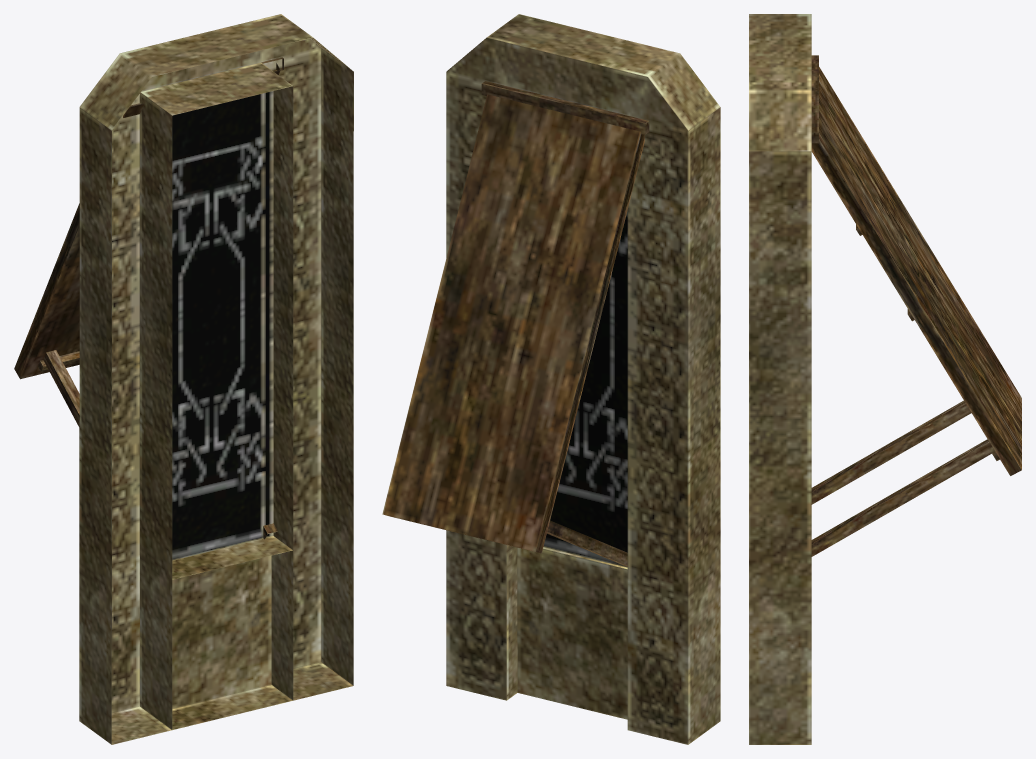
Rendered from hrt_window2.glb.
3 views of the same model, side by side, from view 1: azimuth 30°, elevation 25°; view 2: azimuth 150°, elevation 25°; view 3: azimuth 270°, elevation 25° (orthographic). The views are drawn at different scales.
Parts seen in each view (by area): view 1: hrt_window2-col; view 2: hrt_window2-col; view 3: hrt_window2-col.
Boxes of the visible parts, x1=… form: hrt_window2-col: x1=14, y1=14, x2=353, y2=744; hrt_window2-col: x1=382, y1=14, x2=720, y2=744; hrt_window2-col: x1=749, y1=14, x2=1021, y2=744.
Size of the model in its own units: 0.947 by 2.46 by 0.9571.
1 material, 1 textured.
